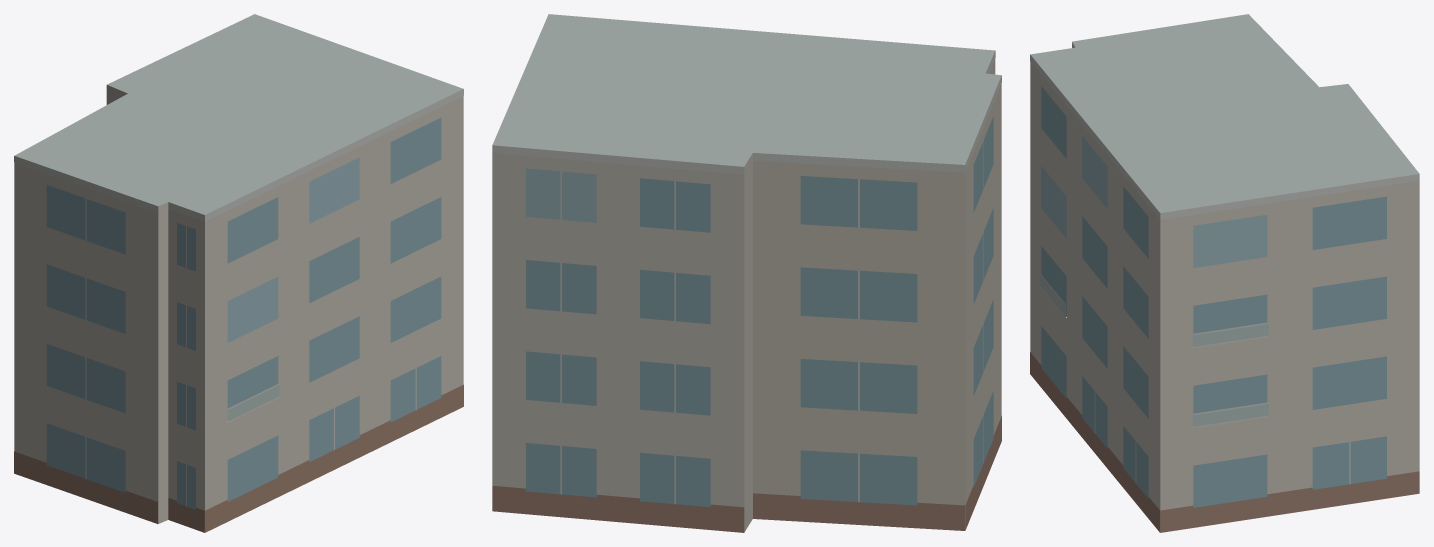
Rendered from survey-upis-32965071.glb.
3 renders of one model, left to right at view 1: azimuth 30°, elevation 25°; view 2: azimuth 150°, elevation 25°; view 3: azimuth 270°, elevation 25°, orthographic. The views are drawn at different scales.
Parts seen in each view (by area): view 1: survey-upis-32965071.tmp; view 2: survey-upis-32965071.tmp; view 3: survey-upis-32965071.tmp.
Boxes of the visible parts, bbox=[...] form: survey-upis-32965071.tmp: bbox=[14, 14, 463, 532]; survey-upis-32965071.tmp: bbox=[492, 14, 1001, 532]; survey-upis-32965071.tmp: bbox=[1030, 14, 1419, 532].
Size of the model in its own units: 15.37 by 11.5 by 12.7.
